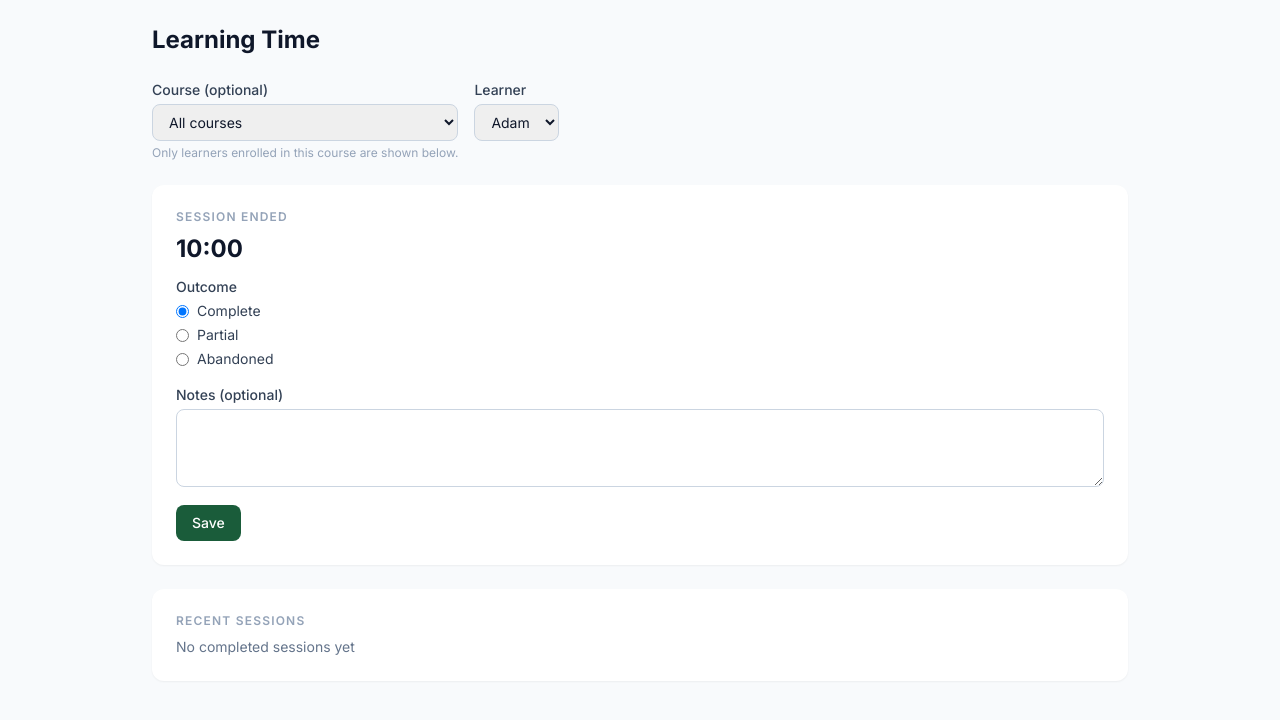
Scenario: LearningTimePage › saving the outcome finalizes the session and shows the Finalized summary
expect the element with test id "now-card-ended" is shown: met, box x1=176 y1=209 x2=1104 y2=541
Click the radio button with test id "outcome-partial" at (182, 335), box x1=176 y1=328 x2=189 y2=342
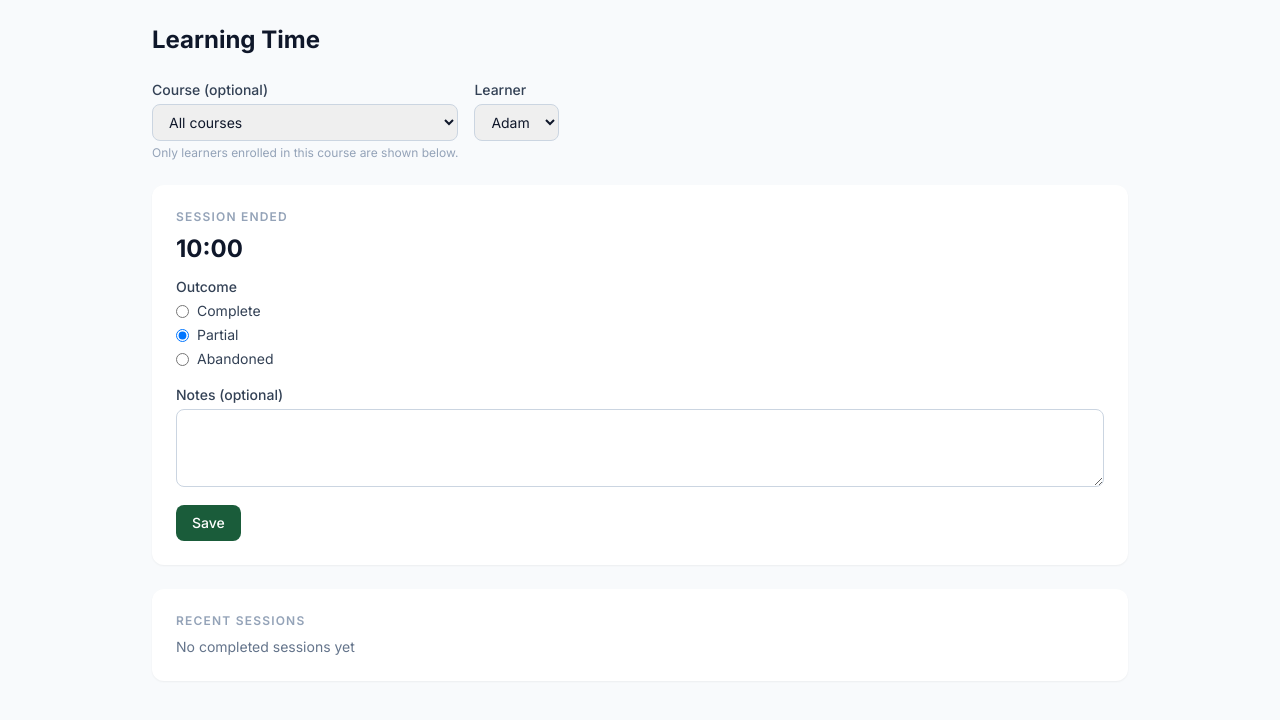
Type "Good progress" into the text box with test id "notes-textarea" at (640, 448), box x1=176 y1=409 x2=1104 y2=487
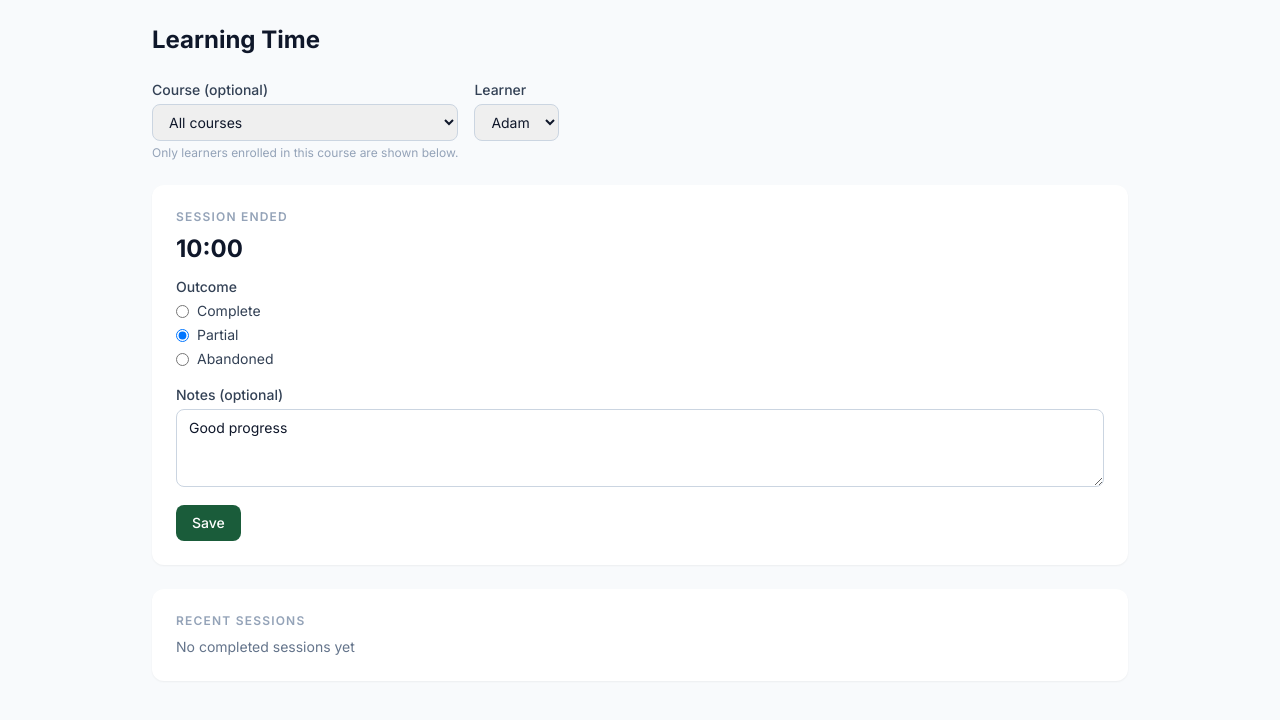
Click the button with test id "save-outcome-button" at (208, 523), box x1=176 y1=505 x2=241 y2=541
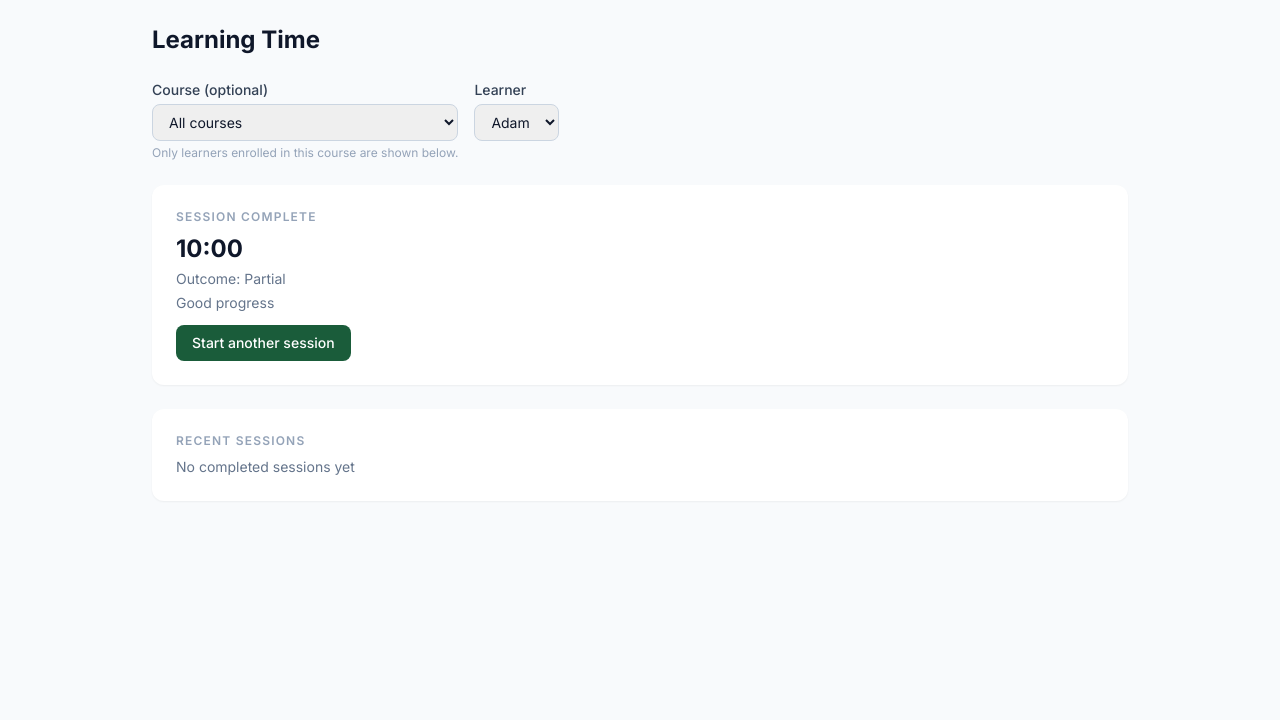
expect the element with test id "now-card-finalized" is shown: met, box x1=176 y1=209 x2=351 y2=361
expect the button with test id "start-another-button" is shown: met, box x1=176 y1=325 x2=351 y2=361
